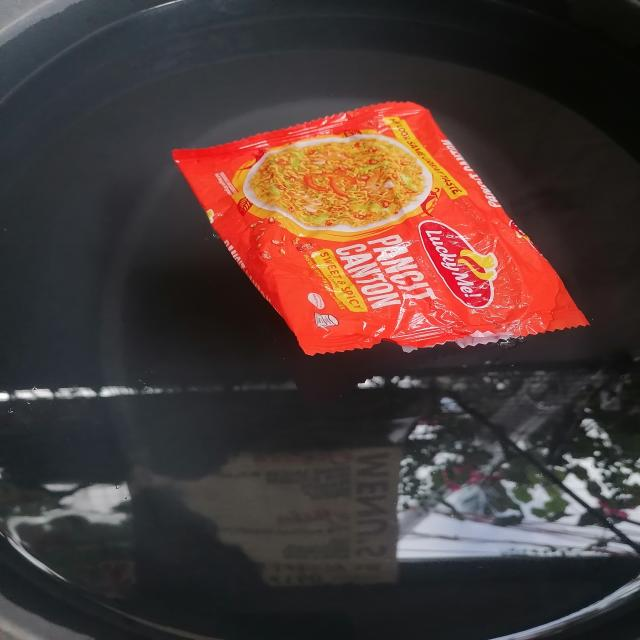Plastic Wrapper: (173, 102, 589, 356)
